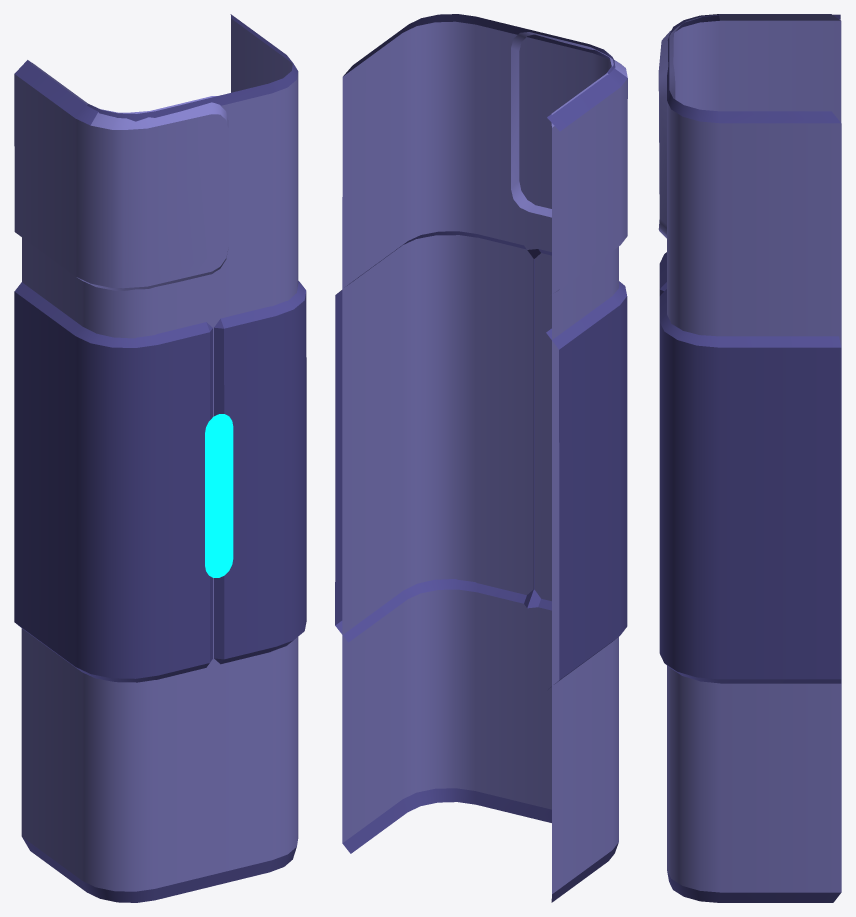
File: wall_medium2.glb
The picture shows the model from 3 angles, left to right: view 1: azimuth 30°, elevation 25°; view 2: azimuth 150°, elevation 25°; view 3: azimuth 270°, elevation 25°; orthographic projection.
Parts seen in each view (by area): view 1: Wall_medium.001; view 2: Wall_medium.001; view 3: Wall_medium.001.
Part boxes in pixels (x1,y1,x2,y2): Wall_medium.001: [14, 14, 306, 902]; Wall_medium.001: [335, 14, 627, 902]; Wall_medium.001: [658, 14, 841, 902].
Bounding box in the file's own units: 0.298 × 0.9999 × 0.2119.
Materials: 1 (1 with a texture image).
